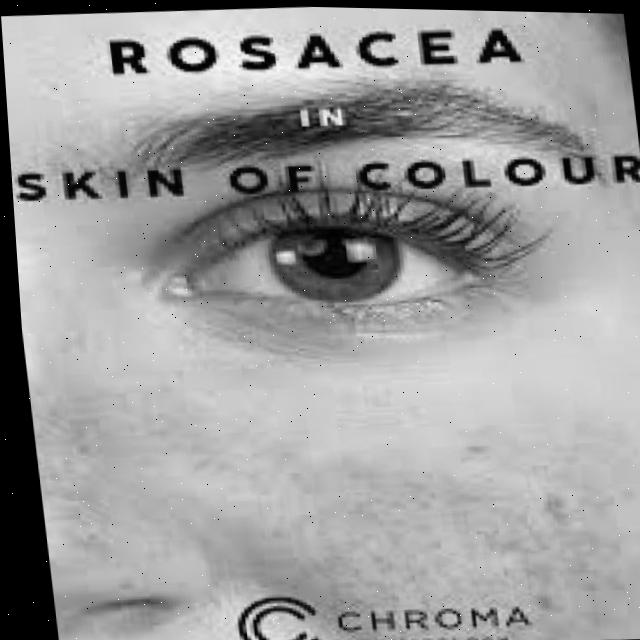Rosacea: (277, 444, 640, 635)
